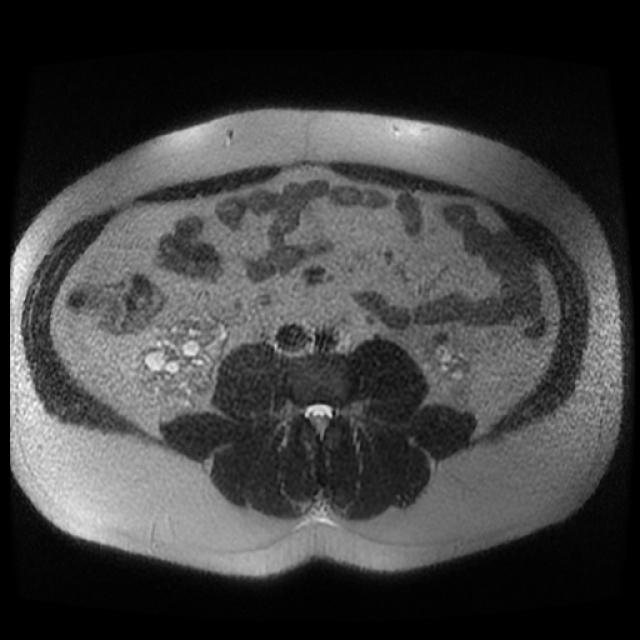sag: (133, 313, 229, 404)
sol: (420, 333, 475, 404)
